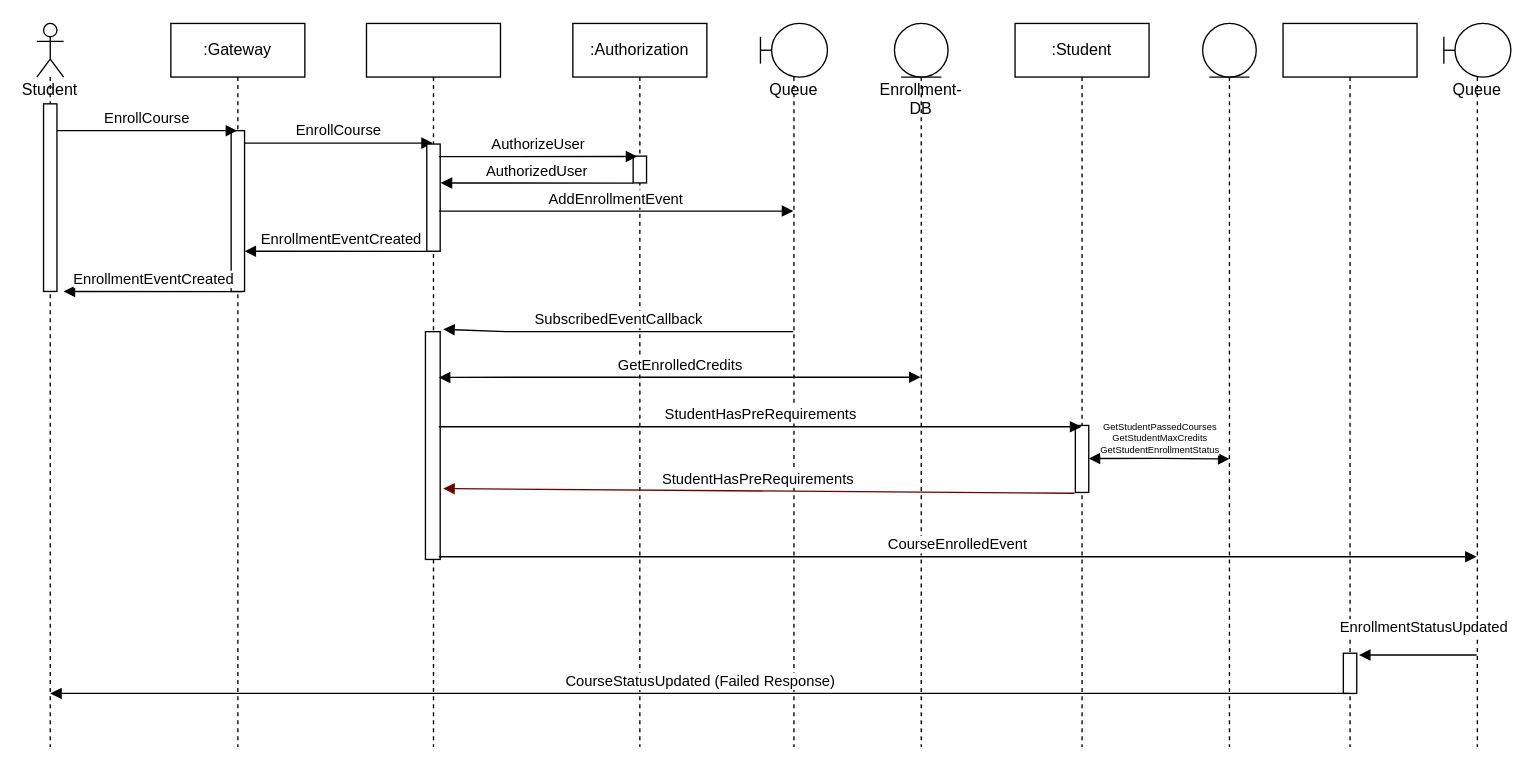
This 1534x771 diagram has some shape labels left out. Each missing label, with the box of its shape:
:Enrollment: (365, 22, 500, 747)
:Websocket: (1282, 22, 1417, 747)
Student-DB: (1201, 22, 1256, 747)
